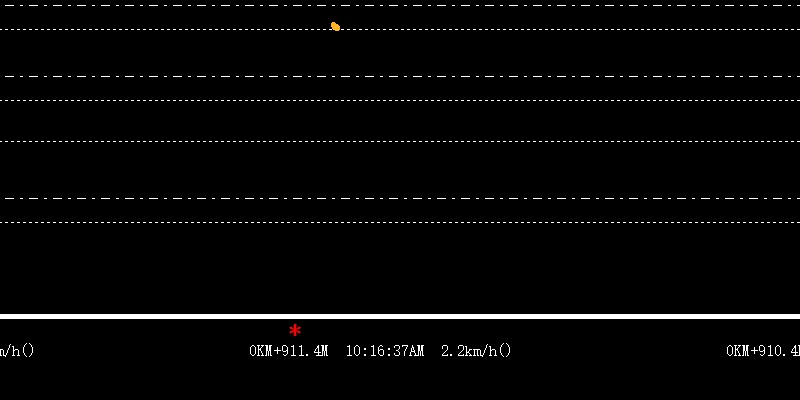face_1: (327, 18, 340, 33)
star: (284, 320, 306, 337)
